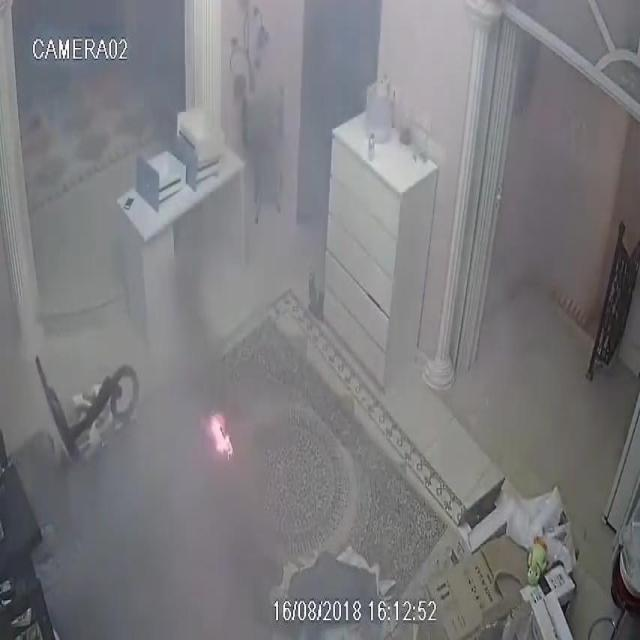fire: (212, 416, 232, 458)
